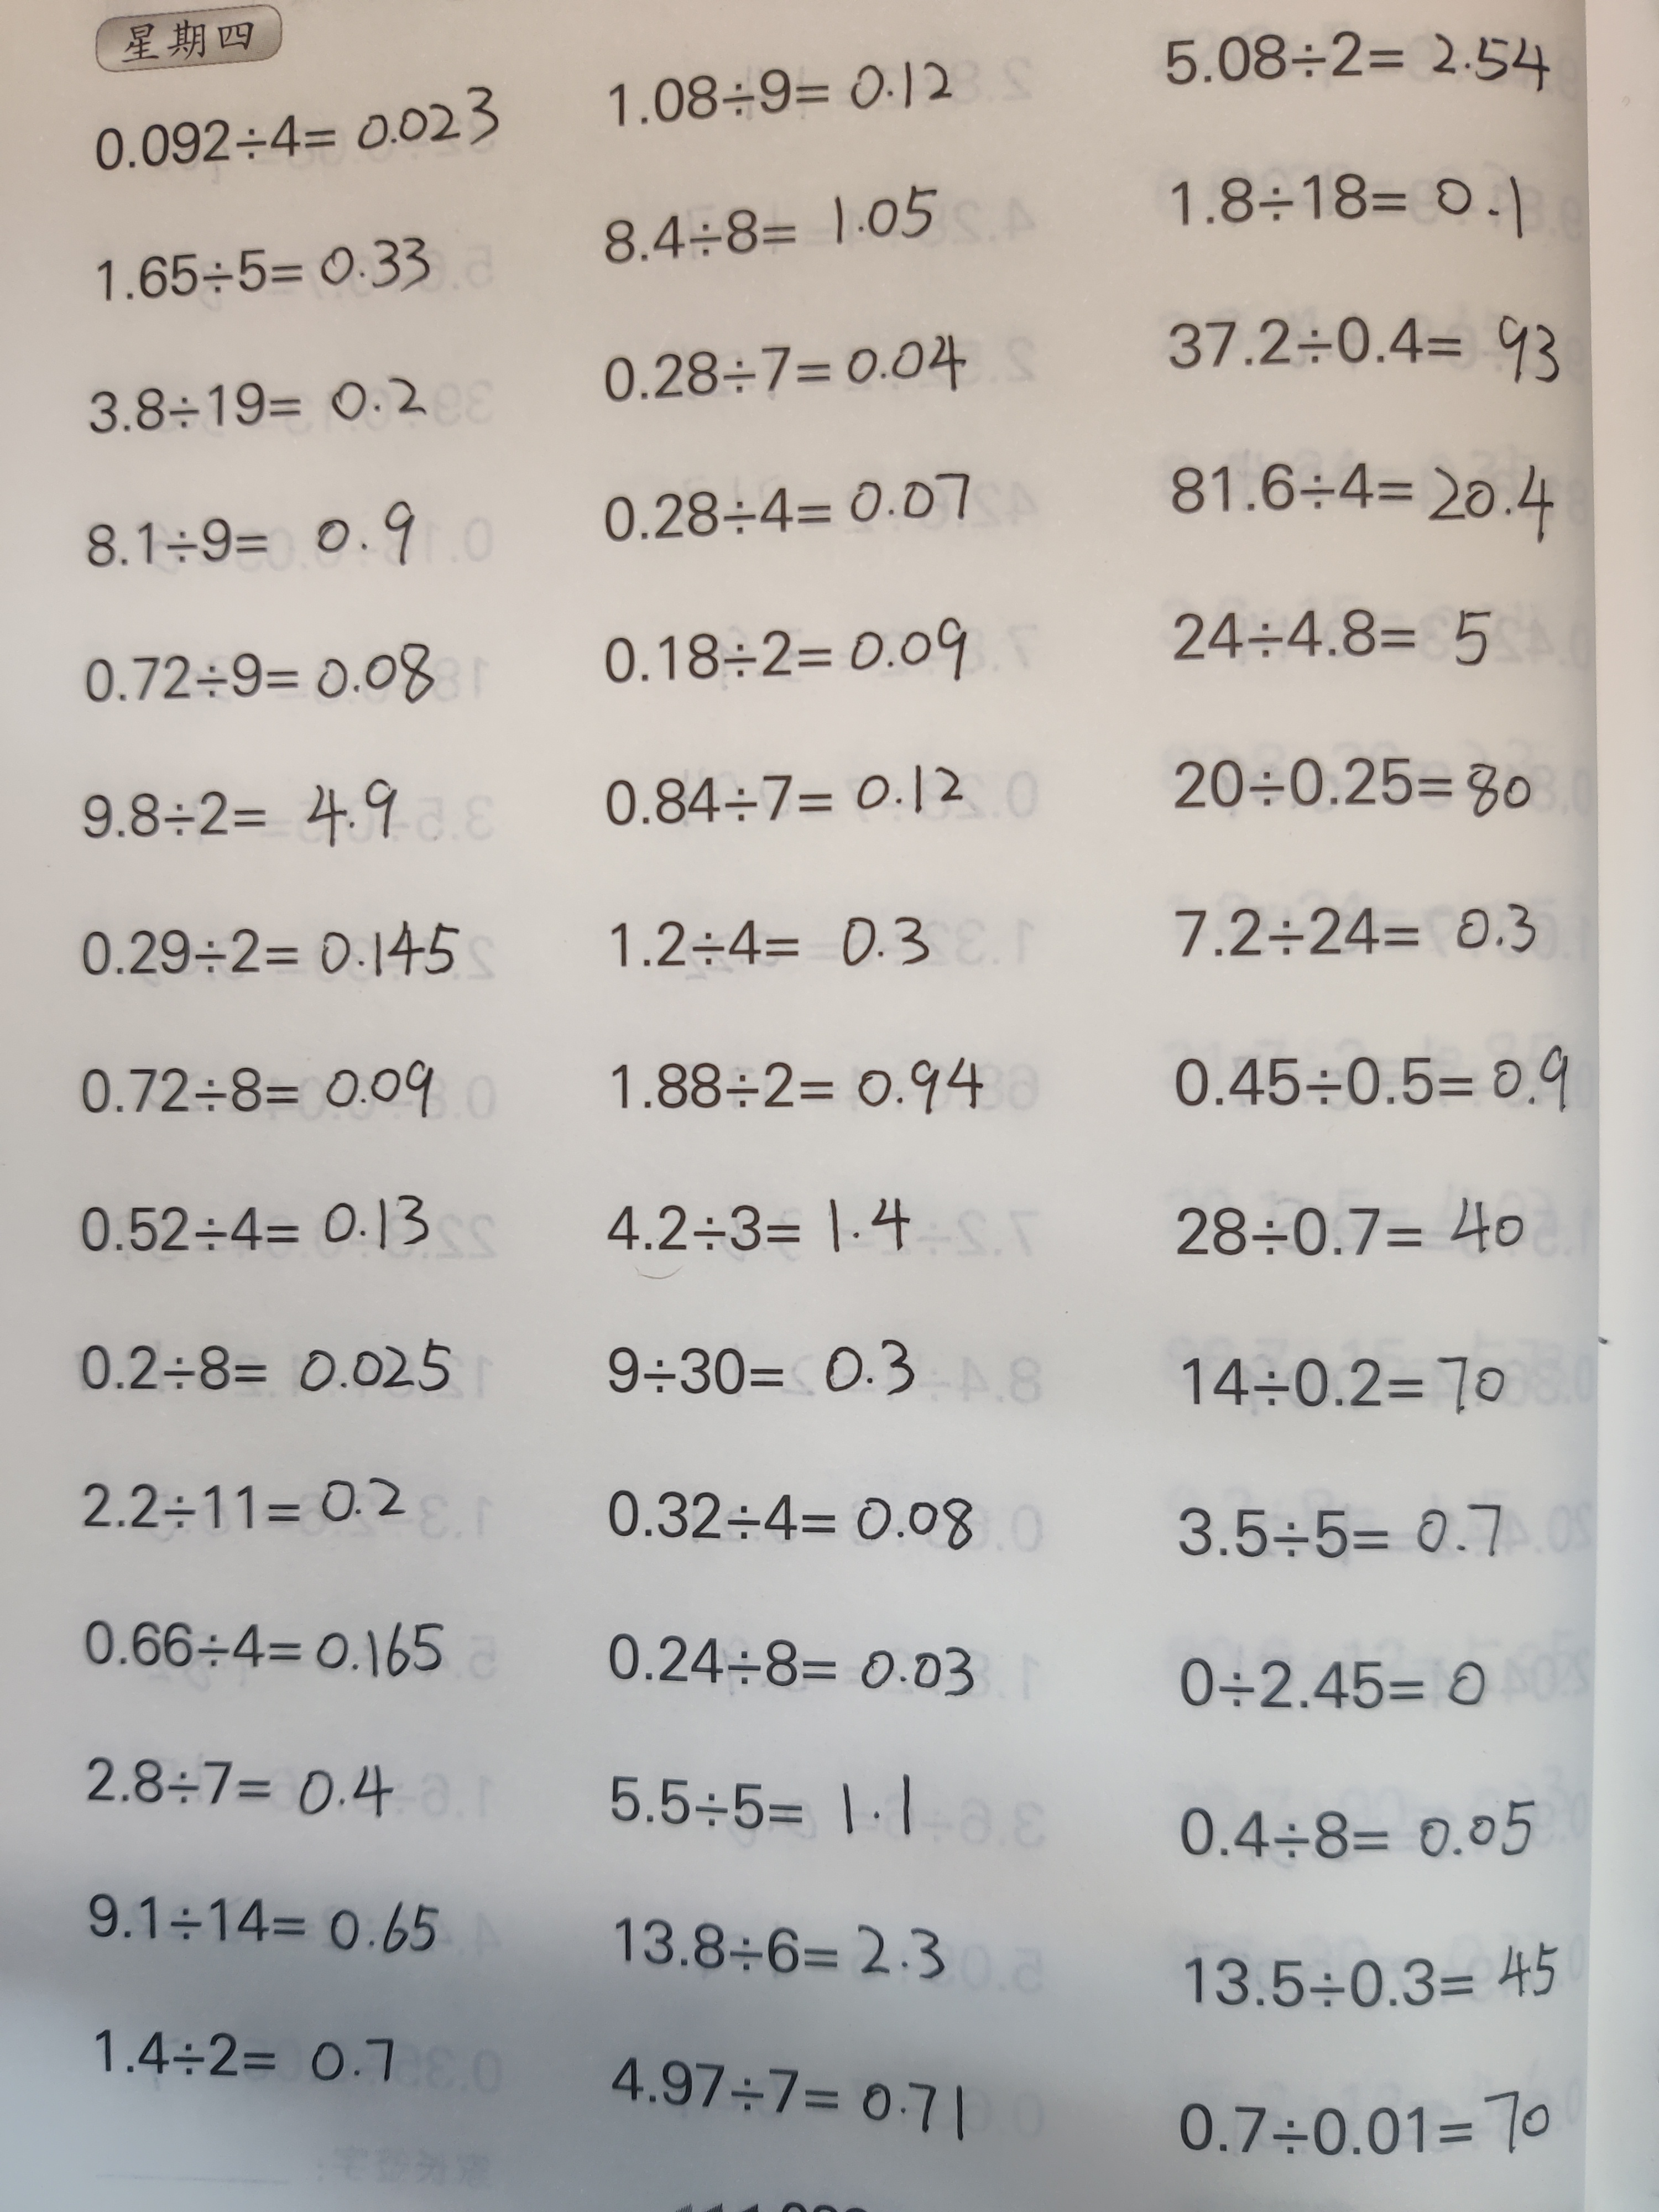equation: (603, 2029, 986, 2168), (1152, 885, 1584, 993), (1155, 2062, 1560, 2175), (580, 596, 983, 704), (1161, 148, 1539, 261), (78, 78, 511, 176), (1155, 1033, 1586, 1130), (1155, 300, 1563, 399), (1152, 449, 1556, 549), (594, 455, 978, 557), (587, 1042, 990, 1137), (1150, 17, 1560, 111), (598, 320, 978, 421), (599, 1465, 978, 1566), (66, 899, 472, 993), (63, 759, 415, 866), (75, 1876, 465, 1972), (78, 1996, 416, 2106), (68, 1038, 441, 1137), (1164, 587, 1506, 695), (1182, 1928, 1568, 2022), (66, 1604, 455, 1696), (1162, 1345, 1523, 1442), (1161, 742, 1539, 834), (586, 1620, 978, 1709), (78, 488, 420, 589), (606, 185, 958, 282), (592, 1895, 948, 1991), (1150, 1789, 1551, 1872), (56, 1181, 446, 1266), (1164, 1188, 1532, 1278), (61, 1336, 472, 1416), (579, 754, 978, 836), (1150, 1637, 1502, 1730), (594, 902, 950, 991), (1162, 1496, 1516, 1585), (73, 631, 439, 716), (594, 56, 971, 138), (87, 223, 444, 308), (78, 1731, 394, 1827), (73, 366, 439, 448), (75, 1460, 423, 1543), (599, 1322, 920, 1411), (598, 1764, 920, 1848), (587, 1190, 927, 1264)
